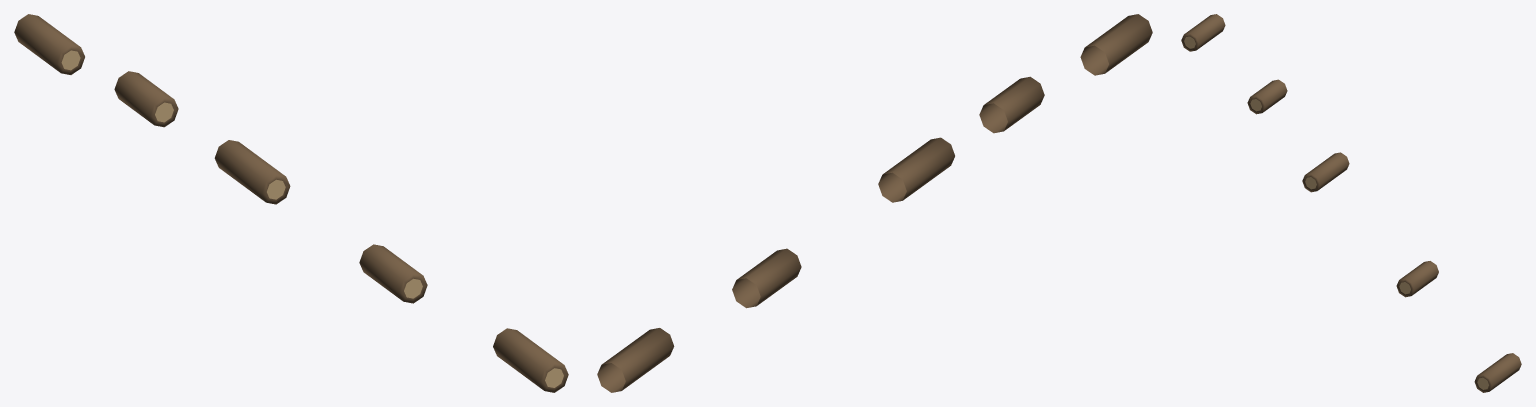
The model's file is rpgpp_ag_roof_support_01_9x4x3_end_01_half_b.fbx.
The picture shows the model from 3 angles, left to right: view 1: azimuth 30°, elevation 25°; view 2: azimuth 150°, elevation 25°; view 3: azimuth 330°, elevation 25°; orthographic projection. The views are drawn at different scales.
Visible parts, largest first — view 1: rpgpp_ag_roof_support_01_9x4x3_end_01_half_b; view 2: rpgpp_ag_roof_support_01_9x4x3_end_01_half_b; view 3: rpgpp_ag_roof_support_01_9x4x3_end_01_half_b.
Part boxes in pixels (box(x1,y1,x2,y2)): rpgpp_ag_roof_support_01_9x4x3_end_01_half_b: box(14, 14, 568, 392); rpgpp_ag_roof_support_01_9x4x3_end_01_half_b: box(597, 14, 1152, 392); rpgpp_ag_roof_support_01_9x4x3_end_01_half_b: box(1181, 14, 1521, 392).
Size of the model in its own units: 4.56 by 3.96 by 0.7417.
